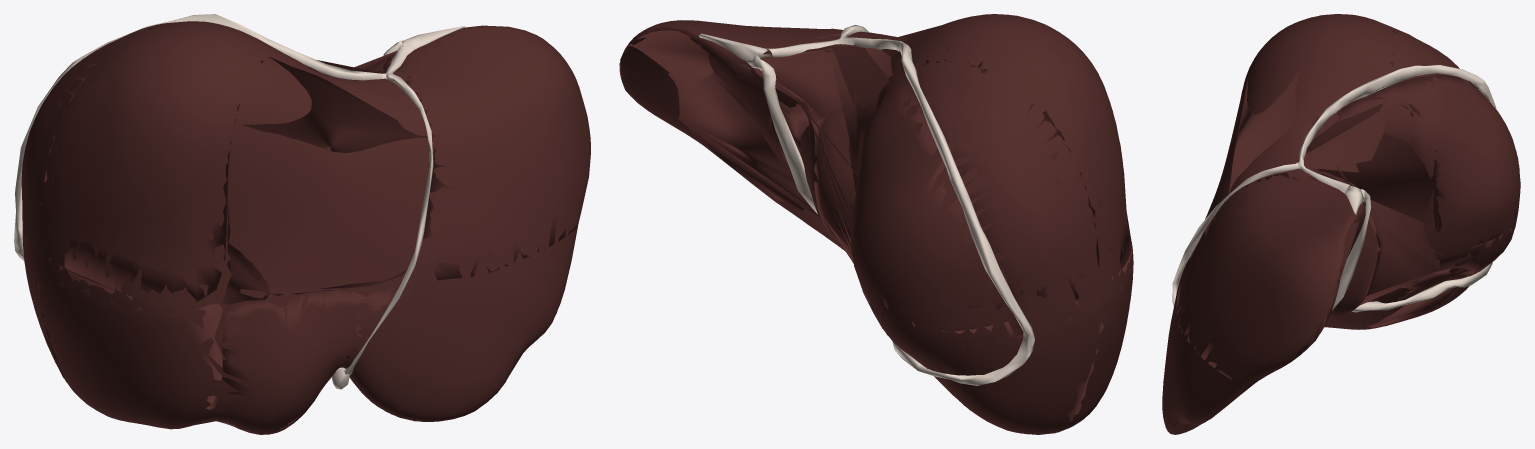
Rendered from 3d-vh-f-liver_lod_20.glb.
3 renders of one model, left to right at view 1: azimuth 30°, elevation 25°; view 2: azimuth 150°, elevation 25°; view 3: azimuth 270°, elevation 25°, orthographic. The views are drawn at different scales.
Visible parts, largest first — view 1: VH_F_capsule_of_the_liver, VH_F_right_anterosuperior_segment, VH_F_left_superomedial_segment, VH_F_left_inferomedial_segment, VH_F_left_superomedial_segment1, VH_F_right_anteroinferior_segment, VH_F_coronary_ligament_of_liver, VH_F_falciform_ligament, VH_F_right_posterosuperior_segment; view 2: VH_F_capsule_of_the_liver, VH_F_bare_area_of_liver, VH_F_right_posterosuperior_segment, VH_F_gastric_impression_of_liver, VH_F_coronary_ligament_of_liver, VH_F_left_superomedial_segment, VH_F_diaphragmatic_surface_of_liver, VH_F_right_anterosuperior_segment, VH_F_right_posteroinferior_segment, VH_F_caudate_lobe, VH_F_ligamentum_venosum, VH_F_right_anteroinferior_segment (+2 smaller); view 3: VH_F_capsule_of_the_liver, VH_F_bare_area_of_liver, VH_F_left_superomedial_segment, VH_F_caudate_lobe, VH_F_right_posterosuperior_segment, VH_F_coronary_ligament_of_liver, VH_F_left_superomedial_segment1, VH_F_falciform_ligament, VH_F_renal_impression_of_liver, VH_F_ligamentum_venosum, VH_F_right_anterosuperior_segment, VH_F_right_posteroinferior_segment (+2 smaller).
Part boxes in pixels (x1,y1,x2,y2): VH_F_capsule_of_the_liver: (21,21,590,434); VH_F_right_anterosuperior_segment: (41,23,269,301); VH_F_left_superomedial_segment: (383,26,590,280); VH_F_left_inferomedial_segment: (206,285,395,432); VH_F_left_superomedial_segment1: (222,57,432,304); VH_F_right_anteroinferior_segment: (38,255,222,427); VH_F_coronary_ligament_of_liver: (14,14,413,260); VH_F_falciform_ligament: (344,73,433,374); VH_F_right_posterosuperior_segment: (21,25,155,237); VH_F_capsule_of_the_liver: (620,14,1133,434); VH_F_bare_area_of_liver: (753,47,1023,375); VH_F_right_posterosuperior_segment: (851,61,1099,331); VH_F_gastric_impression_of_liver: (668,72,845,251); VH_F_coronary_ligament_of_liver: (766,36,1034,385); VH_F_left_superomedial_segment: (621,20,840,174); VH_F_diaphragmatic_surface_of_liver: (619,30,1055,434); VH_F_right_anterosuperior_segment: (894,14,1131,268); VH_F_right_posteroinferior_segment: (864,295,1101,434); VH_F_caudate_lobe: (778,48,899,243); VH_F_ligamentum_venosum: (751,54,817,214); VH_F_right_anteroinferior_segment: (1069,242,1133,425); VH_F_capsule_of_the_liver: (1162,14,1473,434); VH_F_bare_area_of_liver: (1313,74,1520,306); VH_F_left_superomedial_segment: (1176,172,1365,379); VH_F_caudate_lobe: (1306,98,1436,316); VH_F_right_posterosuperior_segment: (1392,31,1519,244); VH_F_coronary_ligament_of_liver: (1298,65,1496,312); VH_F_left_superomedial_segment1: (1217,65,1320,199); VH_F_falciform_ligament: (1172,162,1298,306); VH_F_renal_impression_of_liver: (1366,284,1459,327); VH_F_ligamentum_venosum: (1332,189,1371,310); VH_F_right_anterosuperior_segment: (1250,15,1393,101); VH_F_right_posteroinferior_segment: (1387,228,1511,325).
Bounding box in the file's own units: 0.2471 × 0.17 × 0.1664.
